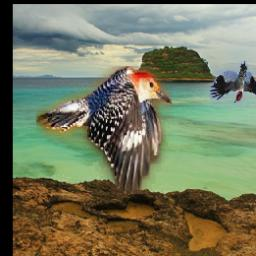Woodpecker: (36, 66, 172, 194), (210, 62, 256, 104)
